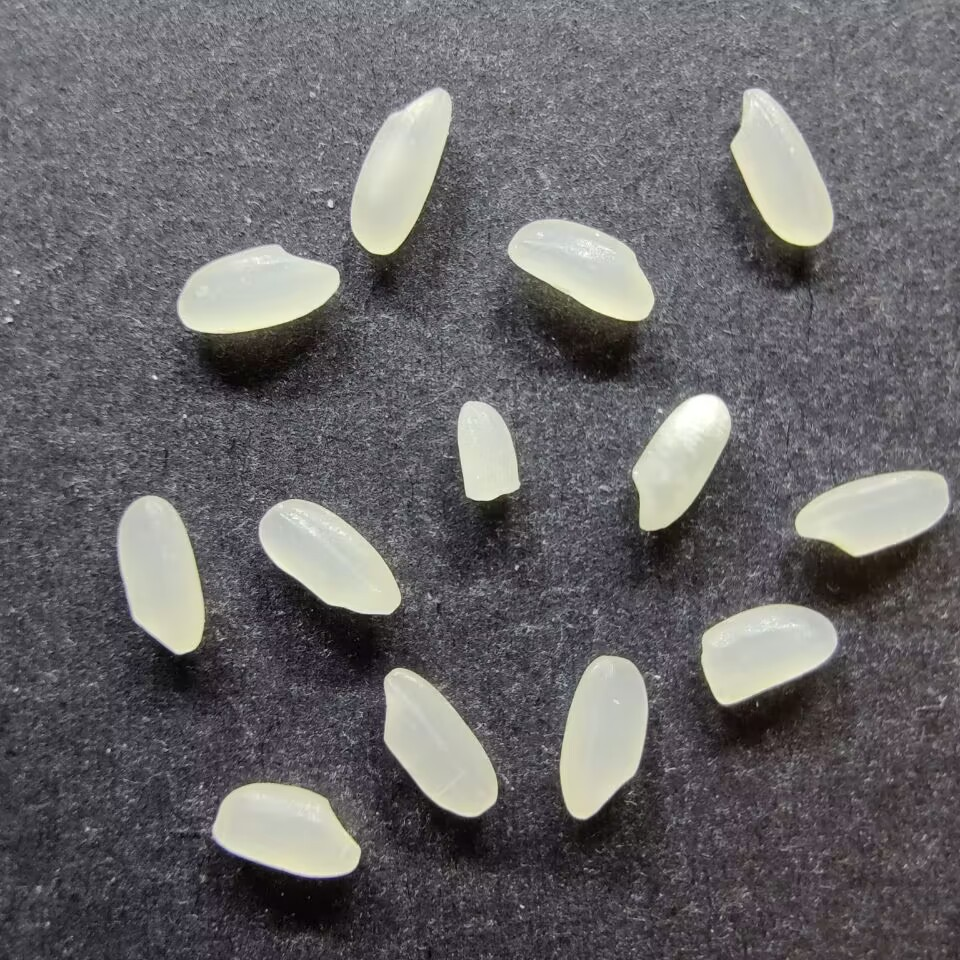broken: (697, 602, 839, 706), (456, 399, 523, 503)
rice: (379, 665, 502, 819), (345, 83, 454, 256), (727, 86, 839, 248), (255, 497, 402, 616), (505, 217, 656, 322), (175, 241, 342, 335), (555, 653, 648, 821), (113, 493, 207, 657), (209, 781, 364, 880), (627, 391, 733, 533), (792, 466, 949, 559)
